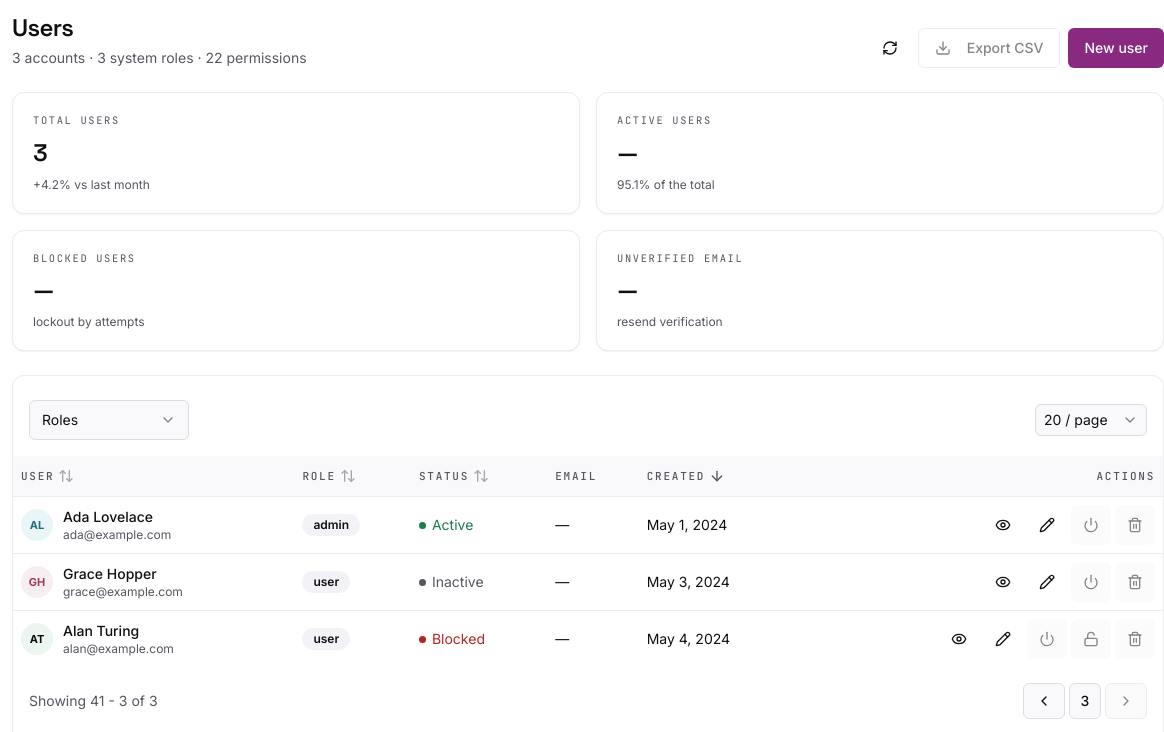
Test: users page — MSW › applies the role filter through the URL and resets the page (S14)
The image size is (1164, 732).
Check: the text "Ada Lovelace" is shown, box [63,508,153,525]
Check: the text "Grace Hopper" is shown, box [63,565,157,582]
Click the dropdown labelled "Role": (109, 420) [29,400,189,440]
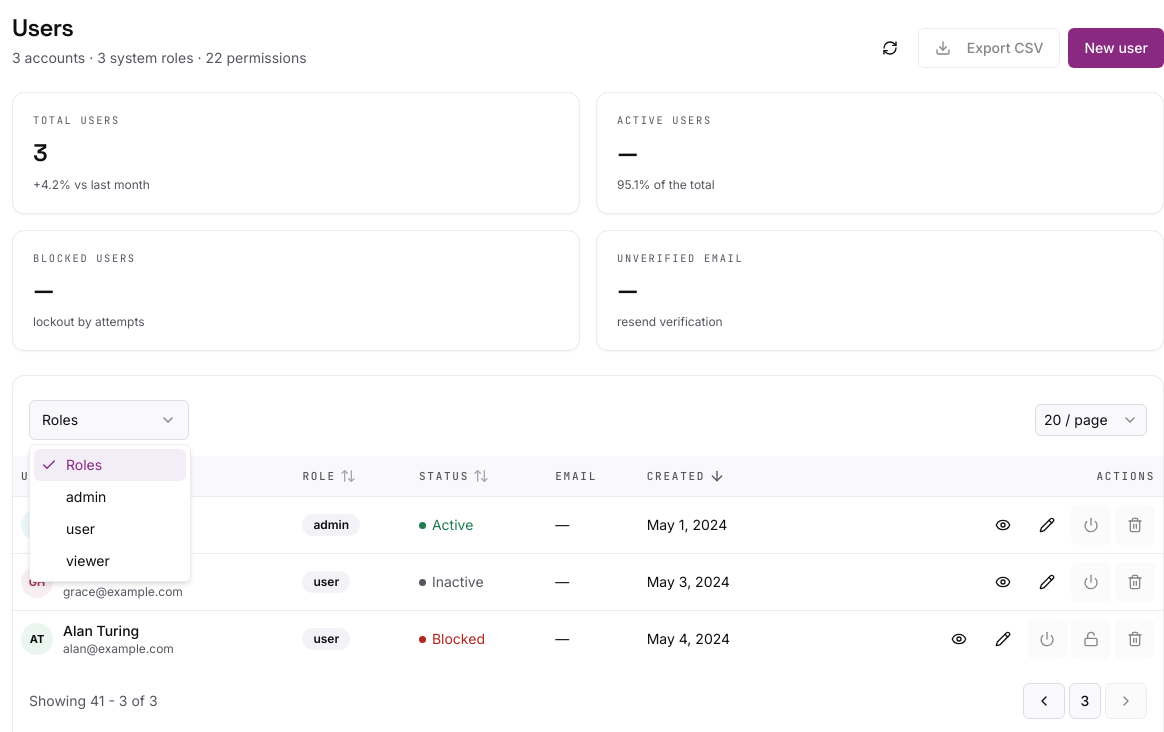
Click the option "admin": (86, 496) [66,488,106,505]
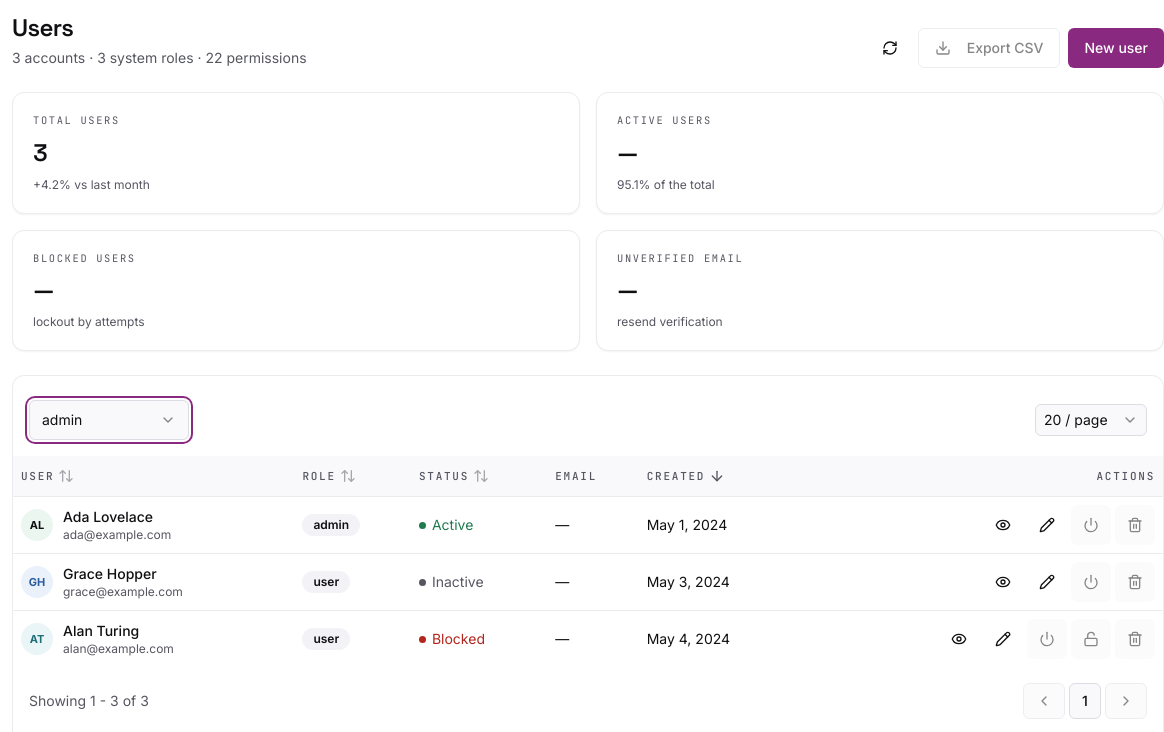
Check: the 1st text "admin" is shown, box [42,410,82,430]
